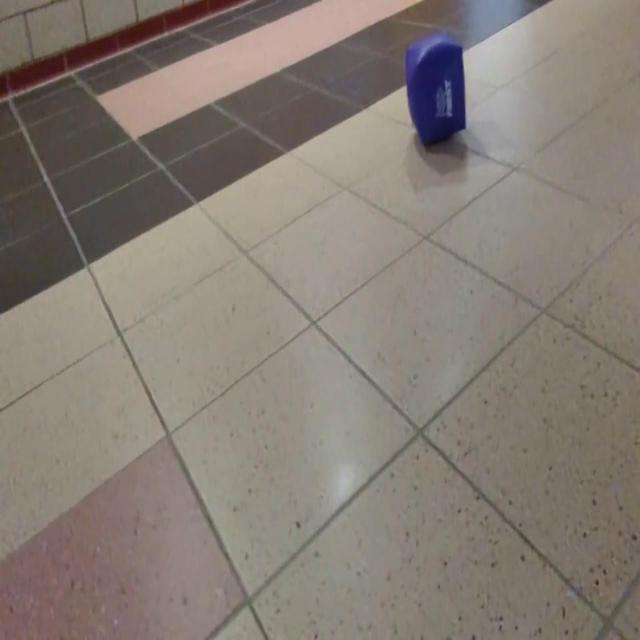frc_cube: (404, 33, 465, 147)
